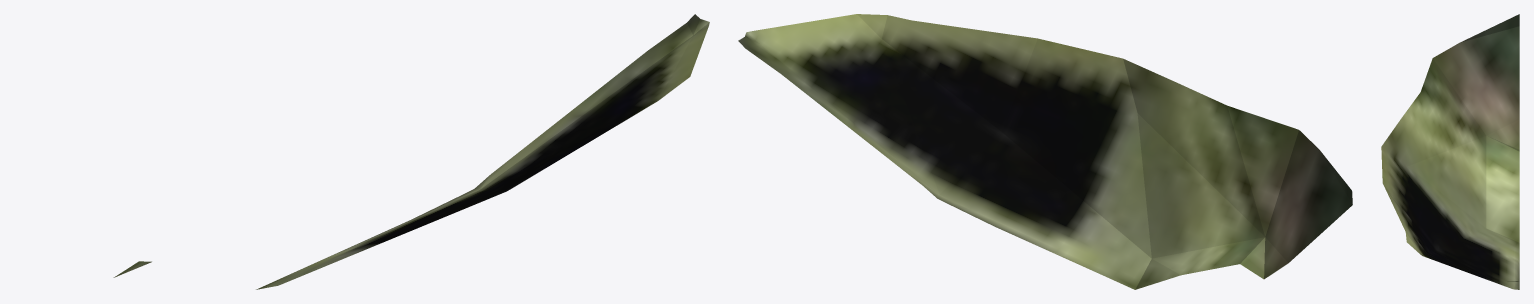
3 views of the same model, side by side, from view 1: azimuth 30°, elevation 25°; view 2: azimuth 150°, elevation 25°; view 3: azimuth 270°, elevation 25° (orthographic). The views are drawn at different scales.
Size of the model in its own units: 30.45 by 7.18 by 6.67.
1 material, 1 textured.
